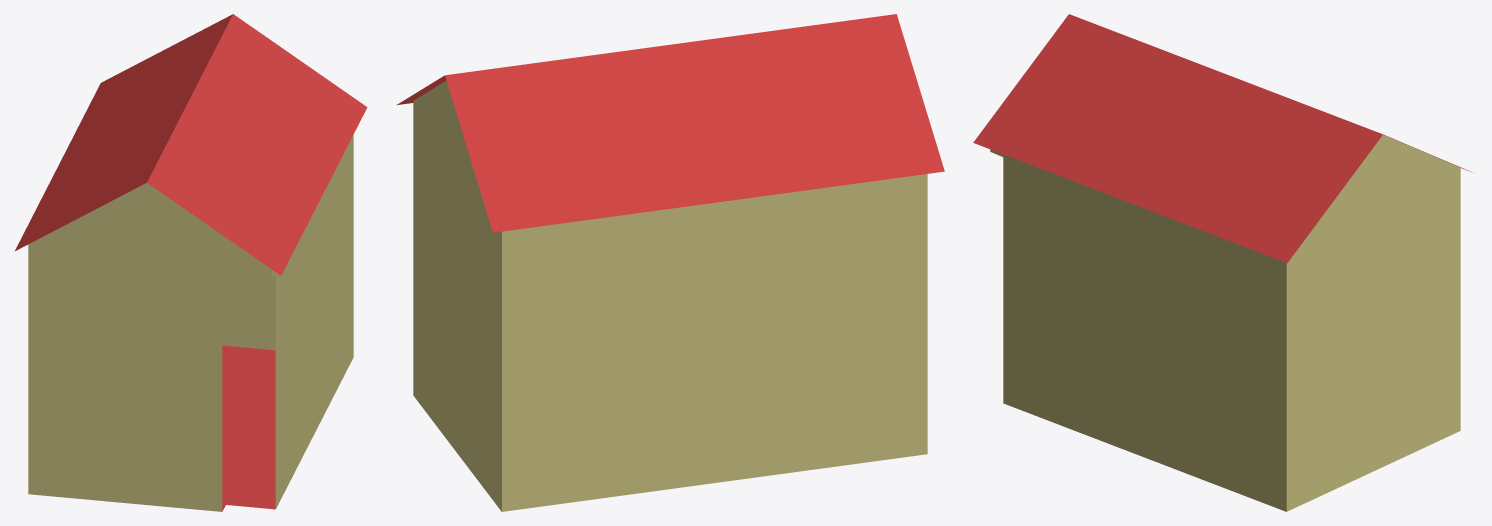
3 renders of one model, left to right at view 1: azimuth 30°, elevation 25°; view 2: azimuth 150°, elevation 25°; view 3: azimuth 270°, elevation 25°, orthographic. The views are drawn at different scales.
Size of the model in its own units: 20.34 by 20.74 by 15.42.
